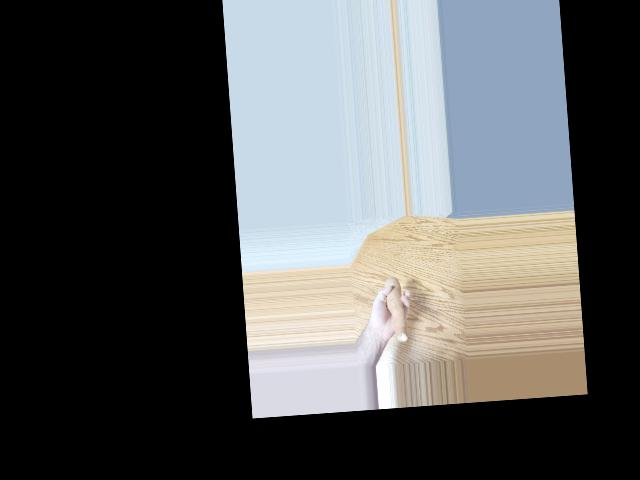sweet_potato: (383, 280, 408, 337)
